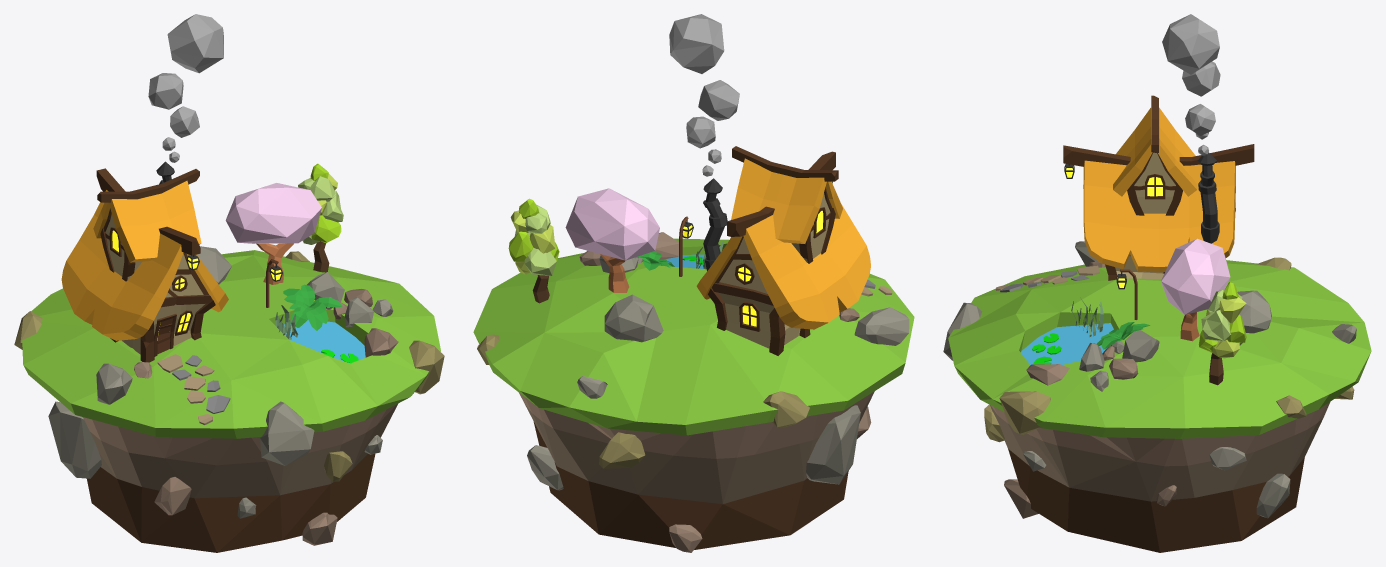
The model's file is island_low_poly.glb.
3 views of the same model, side by side, from view 1: azimuth 30°, elevation 25°; view 2: azimuth 150°, elevation 25°; view 3: azimuth 270°, elevation 25° (orthographic). The views are drawn at different scales.
Visible parts, largest first — view 1: Cylinder.005, Cylinder, Cube.001, Icosphere, Cube.003, Icosphere.042, Icosphere.018, Icosphere.033, Cylinder.007, Cube, Icosphere.012, Icosphere.015 (+15 smaller); view 2: Cylinder.005, Cylinder, Cube.001, Cube.003, Icosphere, Icosphere.018, Cube, Icosphere.042, Icosphere.020, Icosphere.015, Cylinder.003, Icosphere.029 (+13 smaller); view 3: Cylinder.005, Cylinder, Cube.001, Icosphere, Cube.003, Icosphere.042, Cylinder.007, Cube.004, Icosphere.012, Cube.002, Cylinder.003, Icosphere.020 (+12 smaller).
Boxes of the visible parts, left/top/right/bottom form: Cylinder.005: left=22, top=250, right=440, bottom=438; Cylinder: left=82, top=404, right=397, bottom=552; Cube.001: left=61, top=190, right=228, bottom=340; Icosphere: left=225, top=183, right=321, bottom=243; Cube.003: left=93, top=180, right=201, bottom=262; Icosphere.042: left=167, top=14, right=223, bottom=73; Icosphere.018: left=48, top=401, right=101, bottom=478; Icosphere.033: left=260, top=401, right=314, bottom=465; Cylinder.007: left=284, top=320, right=365, bottom=363; Cube: left=122, top=253, right=204, bottom=354; Icosphere.012: left=409, top=340, right=444, bottom=394; Icosphere.015: left=96, top=363, right=132, bottom=404; Cylinder.005: left=473, top=238, right=914, bottom=435; Cylinder: left=519, top=391, right=874, bottom=549; Cube.001: left=696, top=203, right=870, bottom=329; Cube.003: left=731, top=158, right=842, bottom=243; Icosphere: left=565, top=188, right=659, bottom=260; Icosphere.018: left=806, top=405, right=860, bottom=484; Cube: left=719, top=237, right=800, bottom=348; Icosphere.042: left=669, top=14, right=724, bottom=73; Icosphere.020: left=604, top=294, right=663, bottom=342; Icosphere.015: left=854, top=307, right=909, bottom=345; Cylinder.003: left=703, top=178, right=727, bottom=270; Icosphere.029: left=599, top=432, right=645, bottom=468; Cylinder.005: left=948, top=260, right=1371, bottom=438; Cylinder: left=990, top=402, right=1330, bottom=552; Cube.001: left=1083, top=160, right=1235, bottom=272; Icosphere: left=1161, top=238, right=1230, bottom=314; Cube.003: left=1113, top=107, right=1197, bottom=196; Icosphere.042: left=1162, top=14, right=1219, bottom=74; Cylinder.007: left=1021, top=323, right=1113, bottom=364; Cube.004: left=1063, top=144, right=1254, bottom=166; Icosphere.012: left=999, top=391, right=1050, bottom=434; Cube.002: left=1134, top=152, right=1175, bottom=213; Cylinder.003: left=1197, top=152, right=1219, bottom=243; Icosphere.020: left=1237, top=290, right=1271, bottom=333.
Bounding box in the file's own units: 7.69 × 9.68 × 7.87.
